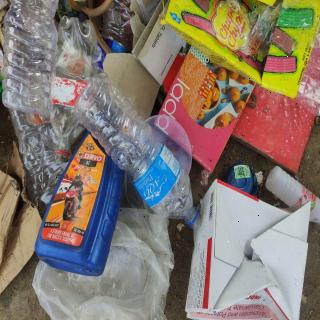Plastic-bottle: (73, 71, 208, 233), (1, 1, 59, 121)
